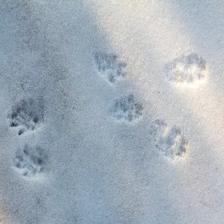squirrel: (85, 49, 131, 87), (109, 93, 146, 125)
